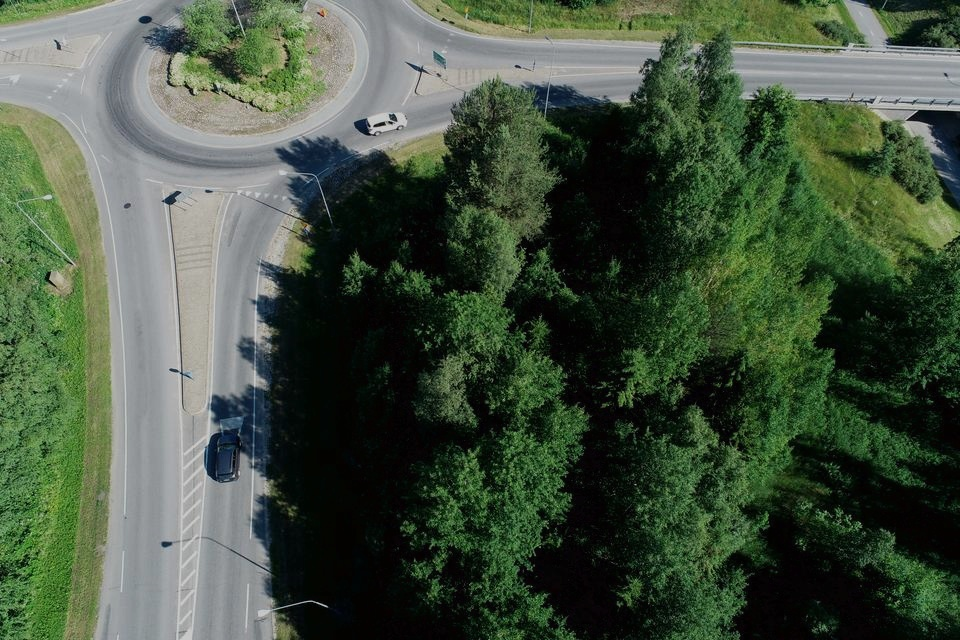roundabout: (21, 0, 477, 244)
